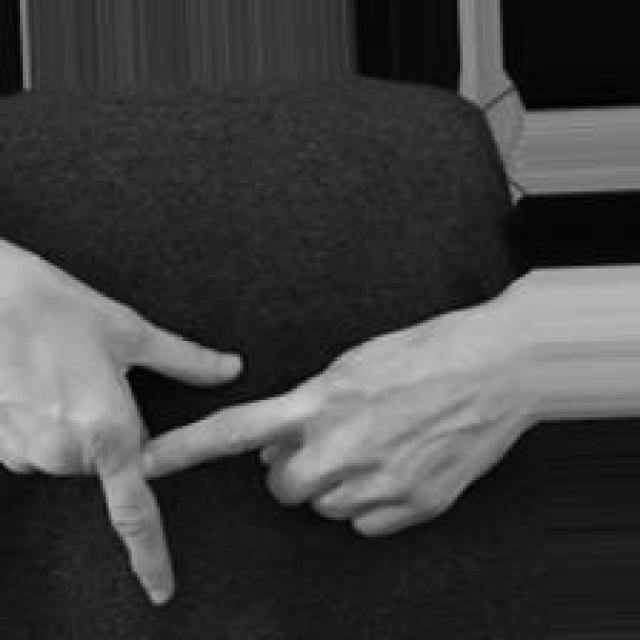F: (0, 240, 505, 611)
